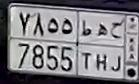5: (46, 16, 59, 71), (61, 16, 73, 72)
7: (17, 11, 30, 69)
8: (32, 11, 44, 69)
H: (96, 22, 108, 72)
J: (110, 22, 123, 72)
T: (81, 19, 92, 70)
